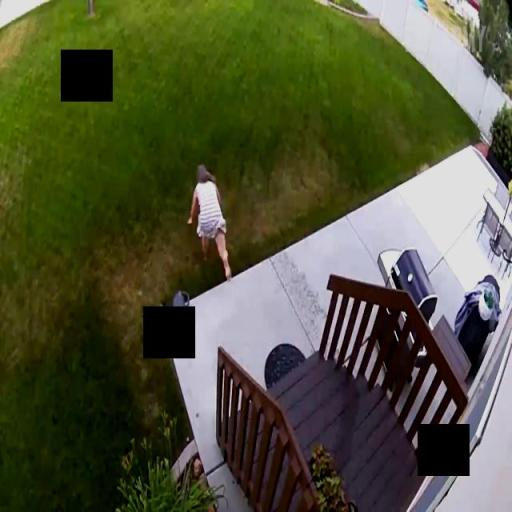Fall: (188, 164, 230, 282)
